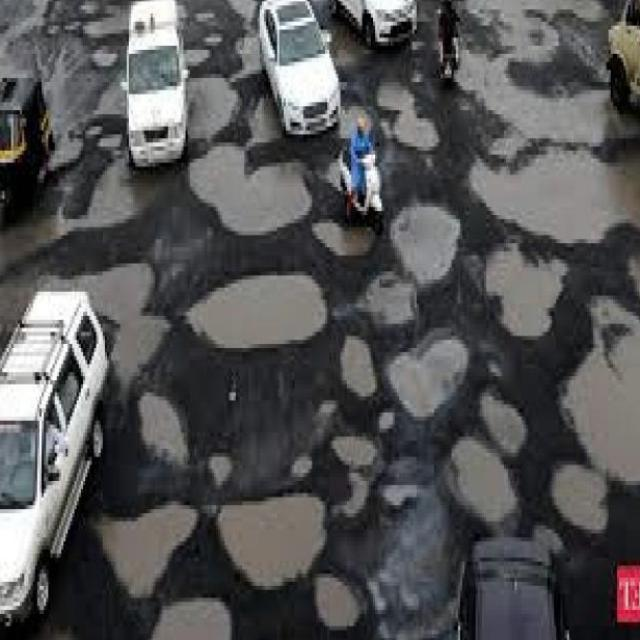pothole: (43, 131, 635, 637), (448, 222, 640, 563), (318, 298, 496, 640), (85, 480, 379, 640), (134, 310, 344, 506), (3, 174, 183, 288), (474, 149, 625, 255), (560, 307, 640, 495), (463, 150, 640, 232), (483, 3, 610, 99), (183, 270, 343, 346), (190, 145, 314, 239), (217, 493, 332, 591), (96, 500, 205, 602), (137, 193, 221, 314), (382, 330, 472, 425), (387, 205, 463, 291), (373, 80, 439, 152)
